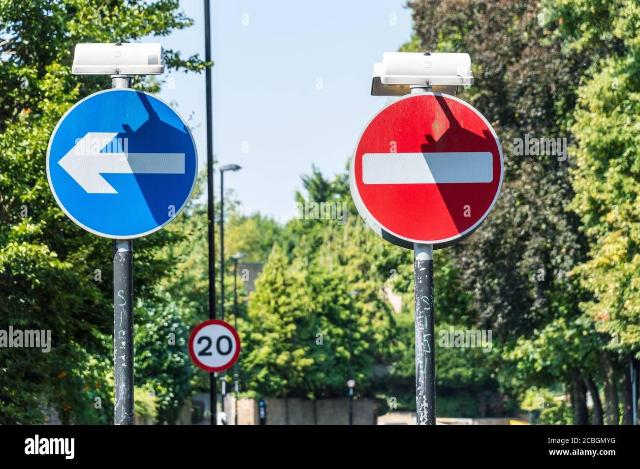B2: (348, 90, 504, 250)
